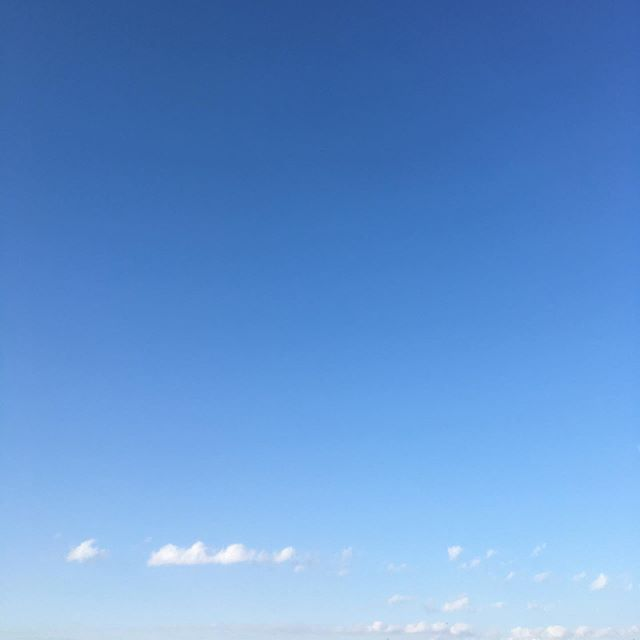sky: (1, 1, 633, 636)
